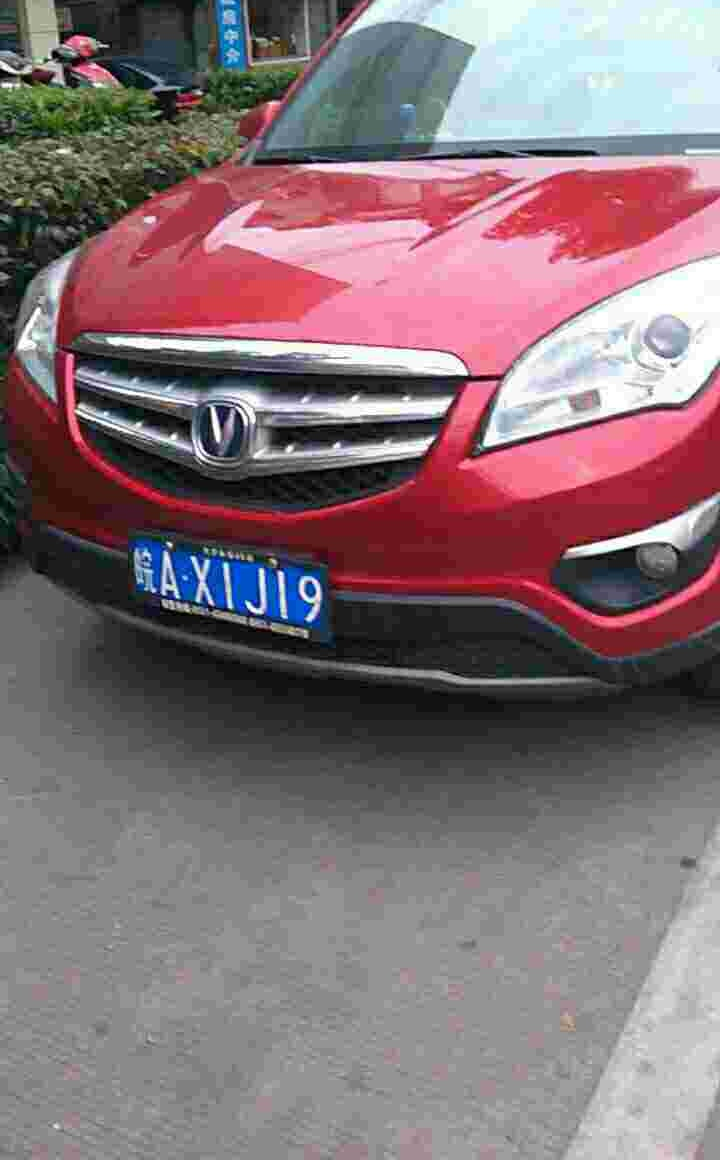license_plate: (132, 530, 327, 628)
